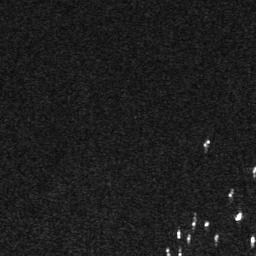ship: (235, 211, 244, 222), (250, 234, 256, 246), (203, 138, 211, 147), (176, 228, 181, 240), (187, 233, 192, 244), (204, 221, 209, 227)
